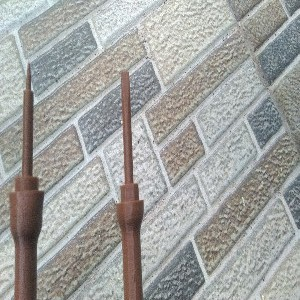obeng: (115, 71, 144, 300)
solder: (8, 61, 45, 300)
